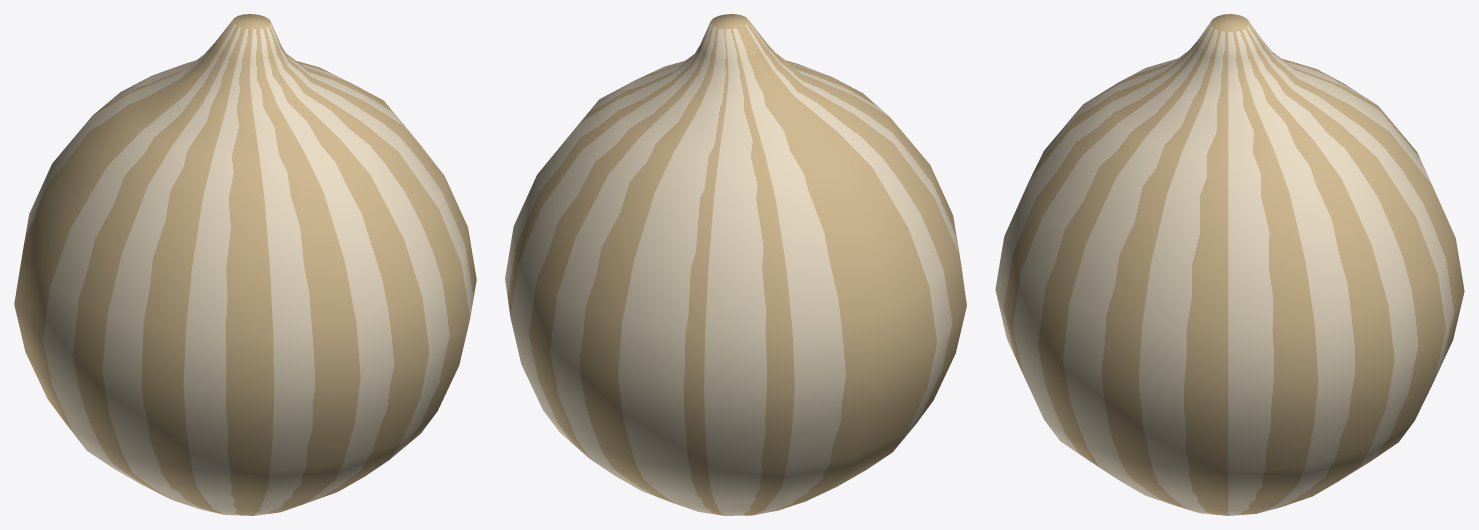
File: ASFTR_RawOnion.fbx
The picture shows the model from 3 angles, left to right: view 1: azimuth 30°, elevation 25°; view 2: azimuth 150°, elevation 25°; view 3: azimuth 270°, elevation 25°; orthographic projection.
Parts seen in each view (by area): view 1: ASFTR_RawOnion; view 2: ASFTR_RawOnion; view 3: ASFTR_RawOnion.
Boxes of the visible parts, x1,y1,x2,y2 form: ASFTR_RawOnion: (14, 14, 476, 515); ASFTR_RawOnion: (505, 14, 966, 515); ASFTR_RawOnion: (995, 14, 1464, 515).
Bounding box in the file's own units: 61.01 × 67.82 × 61.01.
